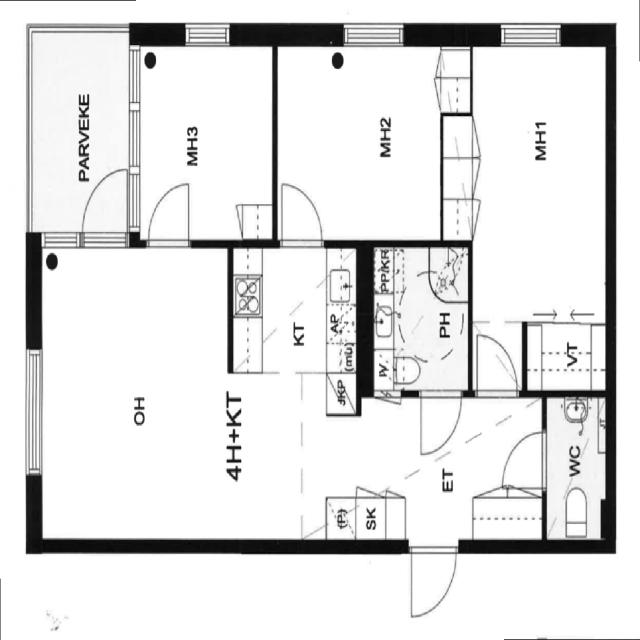door: (77, 161, 134, 243), (405, 540, 461, 622), (142, 175, 198, 251), (274, 176, 331, 250), (470, 329, 520, 403), (500, 424, 549, 497), (416, 388, 463, 456)
window: (120, 36, 150, 238), (18, 342, 50, 484), (337, 17, 409, 53), (493, 19, 568, 53), (178, 17, 238, 51), (81, 228, 134, 252), (36, 227, 84, 252)
zone: (33, 239, 235, 544), (457, 34, 611, 352), (273, 40, 472, 242), (137, 38, 276, 242), (228, 246, 356, 379), (369, 243, 473, 397), (544, 394, 609, 544), (522, 321, 610, 391)
